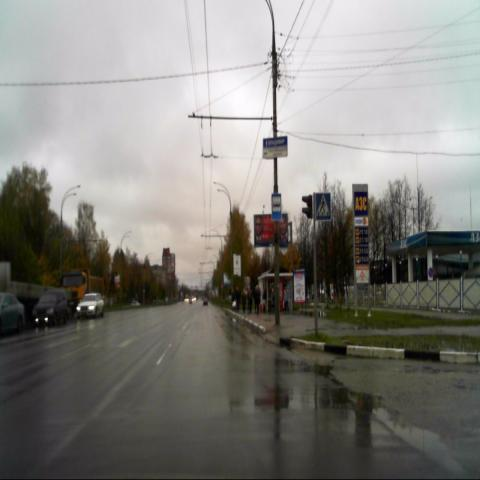5_16: (271, 193, 281, 221)
5_19_1: (316, 192, 330, 221)
